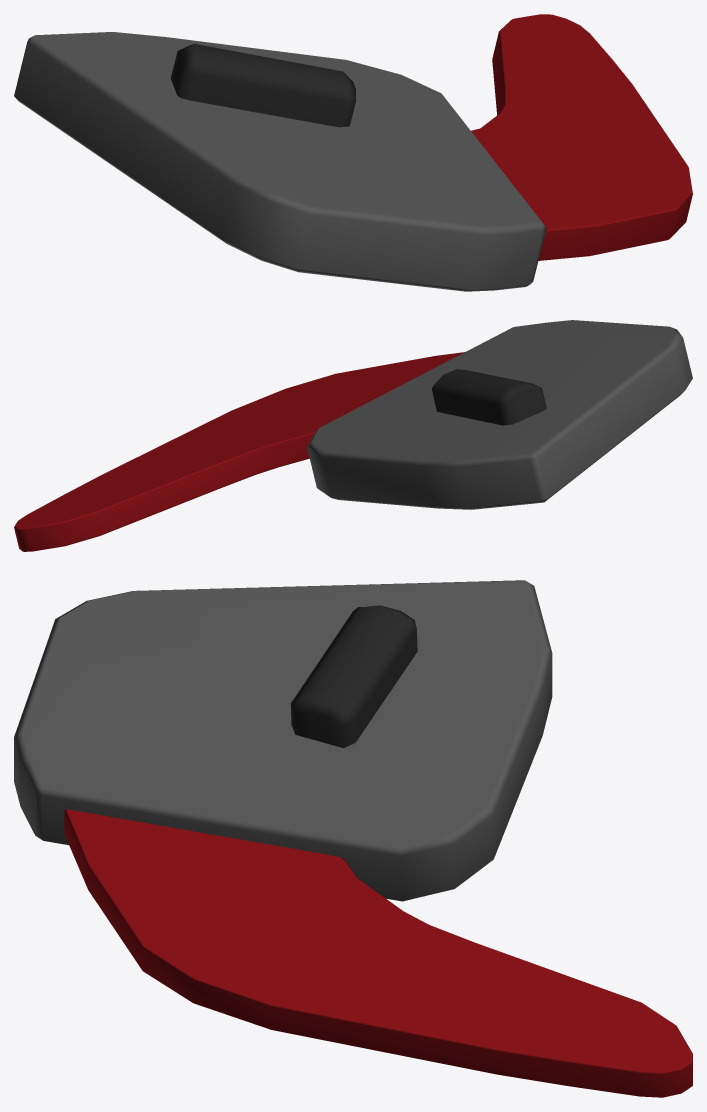
File: Ship_enemy_06_Wing_L.fbx
3 views of the same model, one above another, from view 1: azimuth 30°, elevation 25°; view 2: azimuth 150°, elevation 25°; view 3: azimuth 270°, elevation 25° (orthographic). The views are drawn at different scales.
Parts seen in each view (by area): view 1: Ship_enemy_06_Wing_L; view 2: Ship_enemy_06_Wing_L; view 3: Ship_enemy_06_Wing_L.
Boxes of the visible parts, left/top/right/bottom form: Ship_enemy_06_Wing_L: left=14, top=14, right=692, bottom=291; Ship_enemy_06_Wing_L: left=14, top=320, right=692, bottom=551; Ship_enemy_06_Wing_L: left=14, top=580, right=692, bottom=1097.
Size of the model in its own units: 228 by 81.15 by 210.
